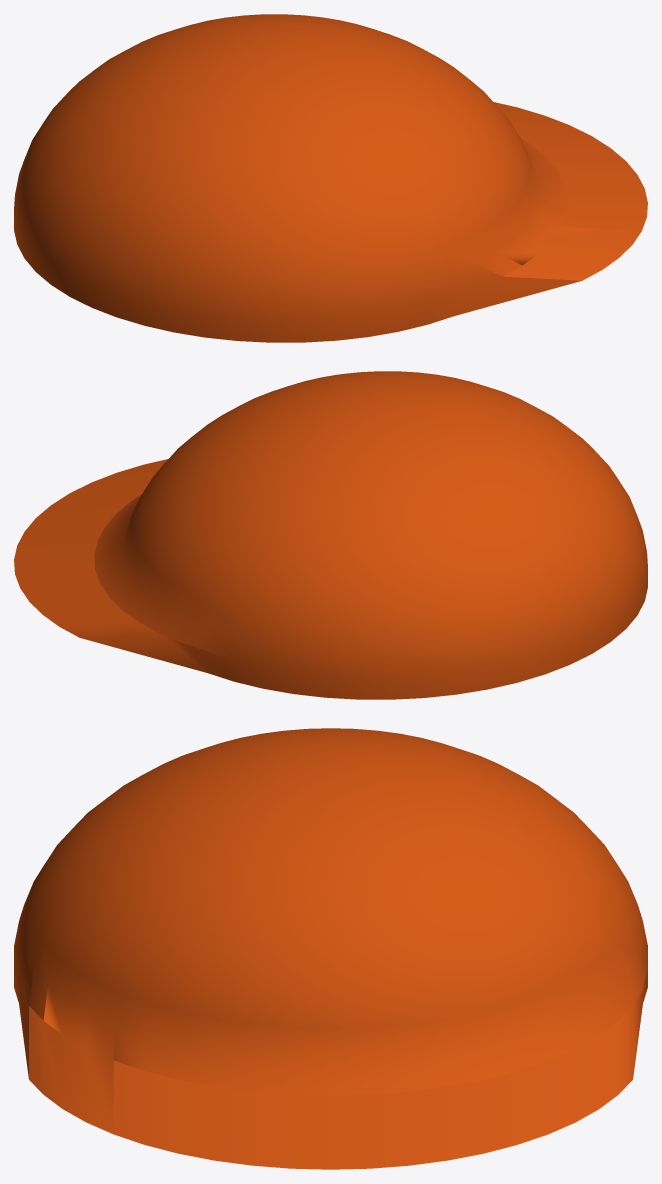
File: HatBilliardsHat.fbx
3 renders of one model, top to bottom at view 1: azimuth 30°, elevation 25°; view 2: azimuth 150°, elevation 25°; view 3: azimuth 270°, elevation 25°, orthographic. The views are drawn at different scales.
Parts seen in each view (by area): view 1: Kugel; view 2: Kugel; view 3: Kugel.
Part boxes in pixels (box(x1,y1,x2,y2)): Kugel: box(14, 14, 647, 342); Kugel: box(14, 371, 647, 699); Kugel: box(14, 728, 647, 1169).
Bounding box in the file's own units: 246 × 75.83 × 205.
